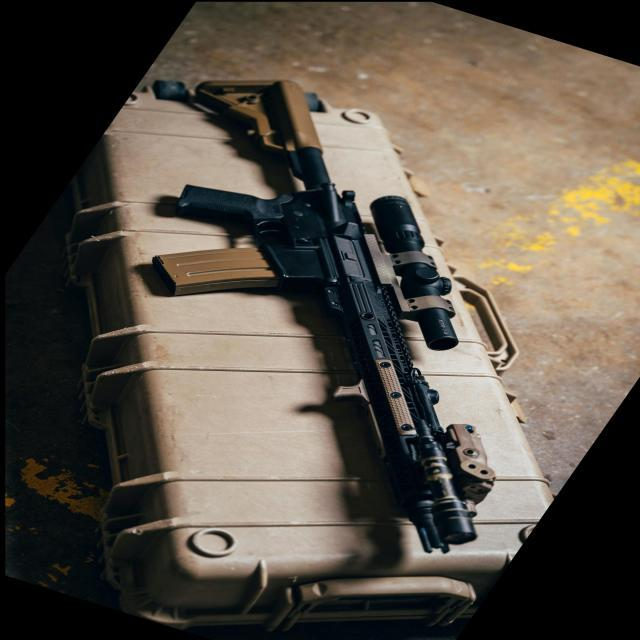weapon: (146, 74, 503, 556)
